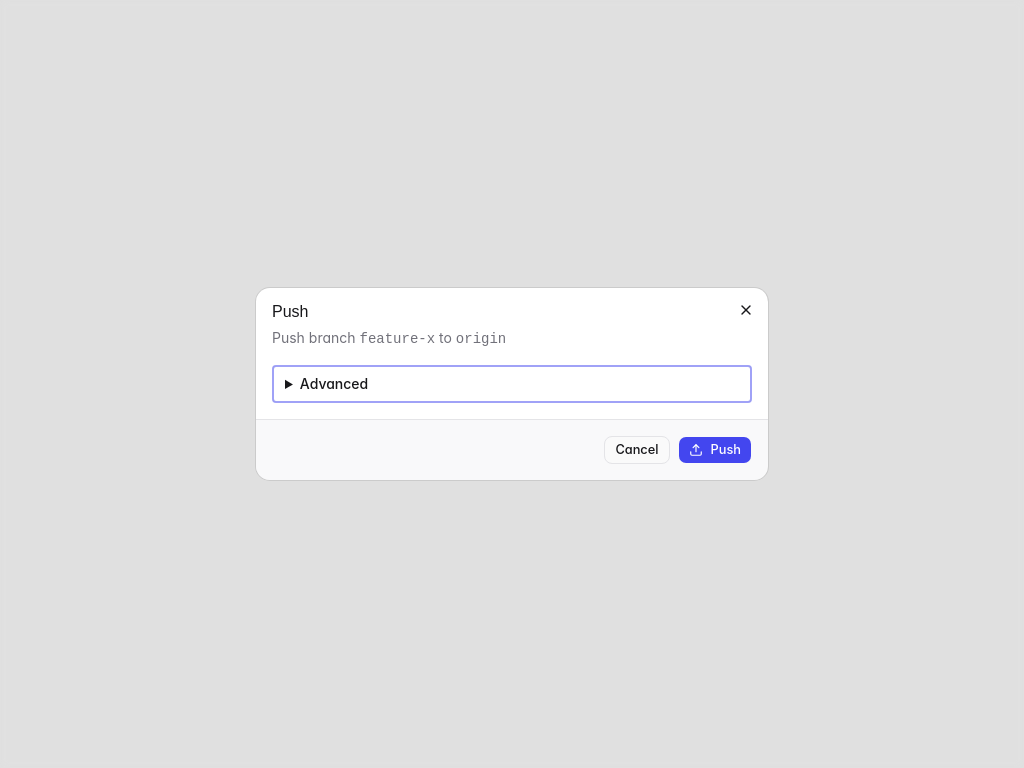
Test: GitPushDialog — force-push literal gate › disables the Force push button until the input value is exactly 'force'
Click the heading with test id "git-push-dialog-advanced-toggle". click: click(334, 384)
box: 300,375 -> 368,392
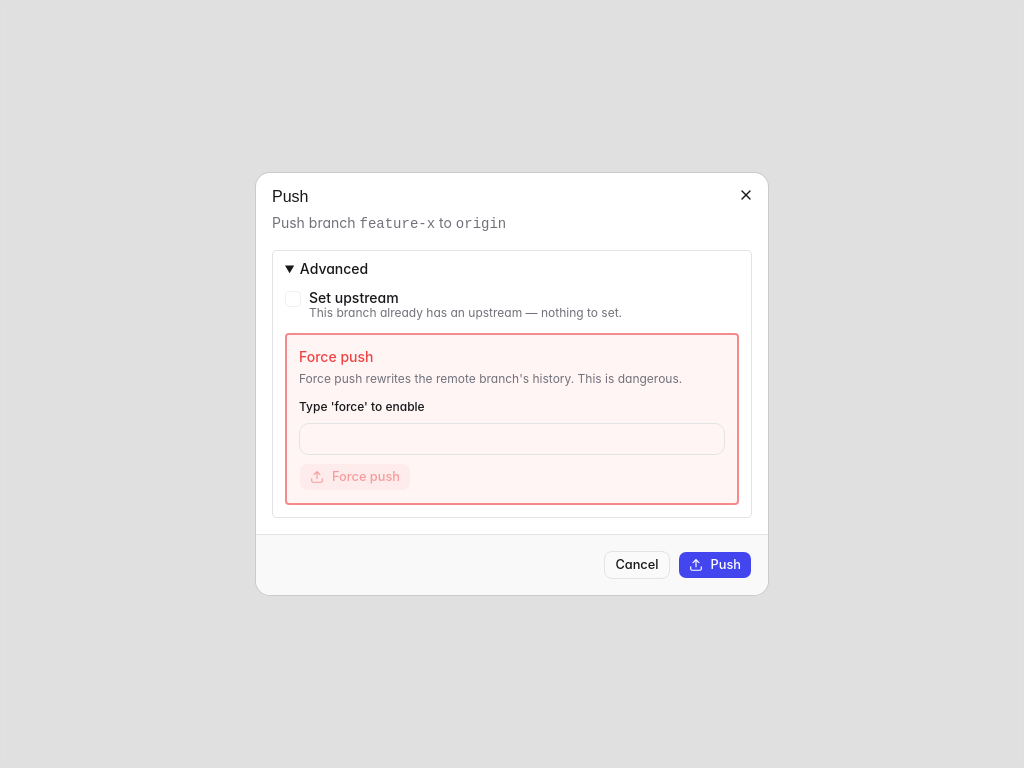
Expected: the button with test id "git-push-dialog-force-submit" is disabled, 299,463 -> 411,491
Type "forc" into the field with test id "git-push-dialog-force-input". click: (512, 439)
box: 299,423 -> 725,455
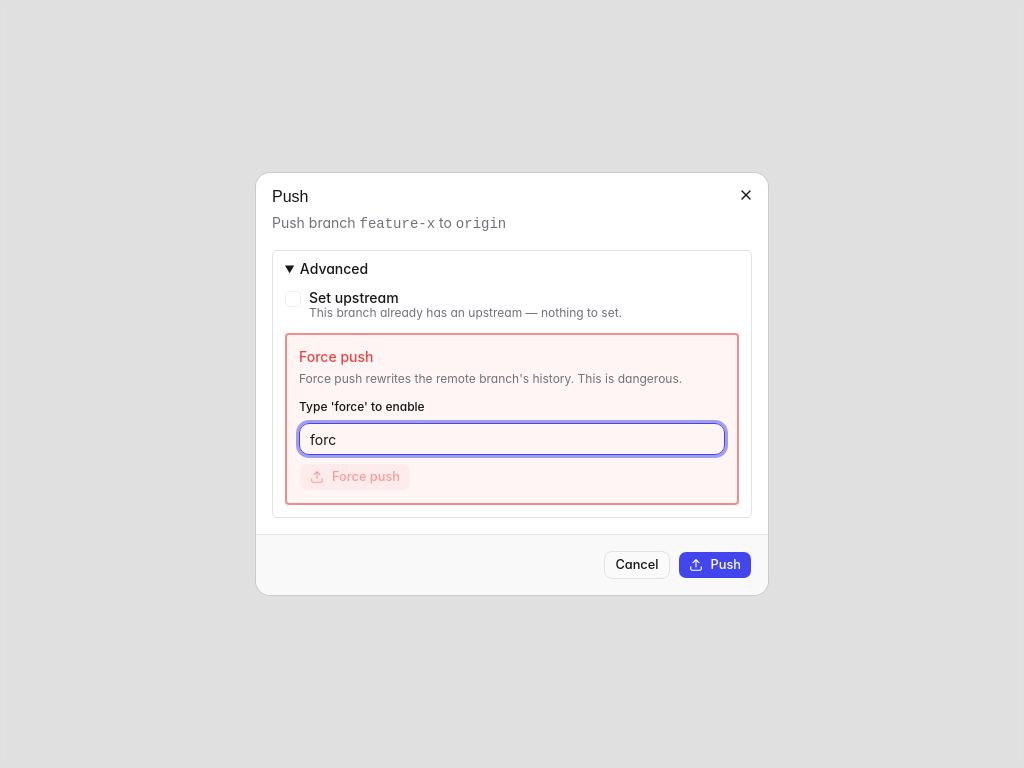
Expected: the button with test id "git-push-dialog-force-submit" is disabled, 299,463 -> 411,491
Type "e" into the field with test id "git-push-dialog-force-input". click: (512, 439)
box: 299,423 -> 725,455
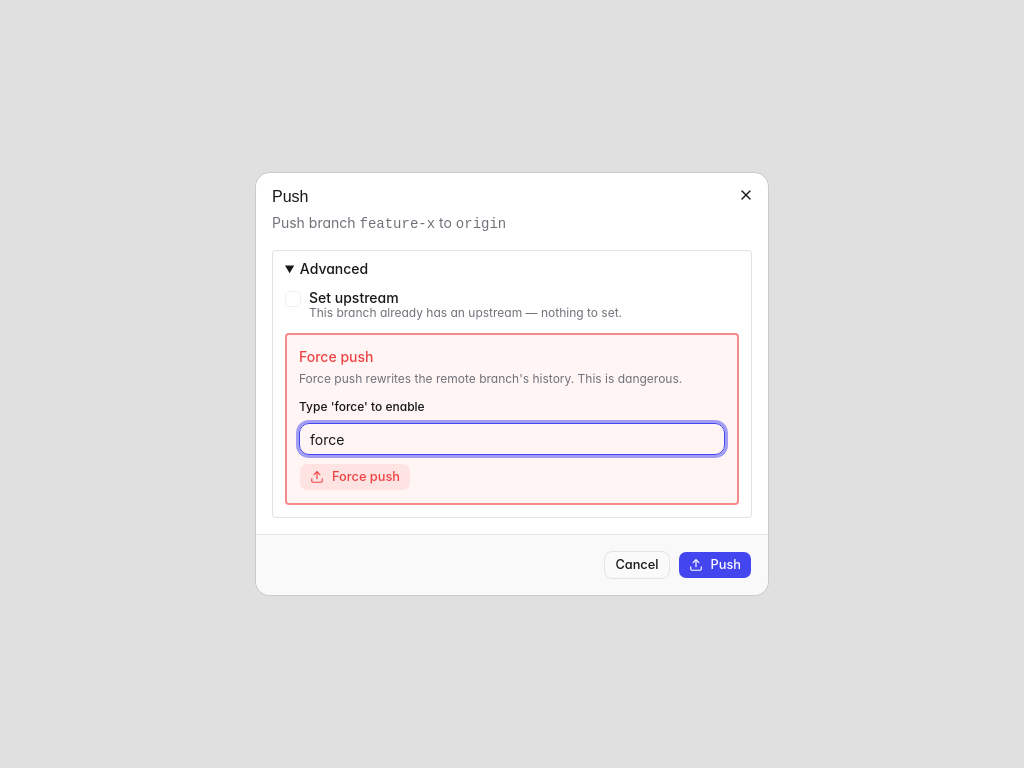
Expected: the button with test id "git-push-dialog-force-submit" is enabled, 299,463 -> 411,491
